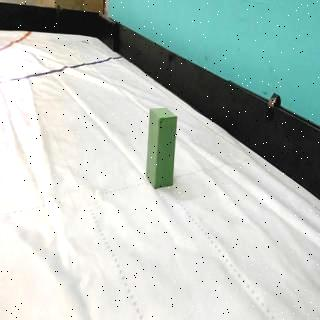greenbox: (144, 106, 178, 190)
